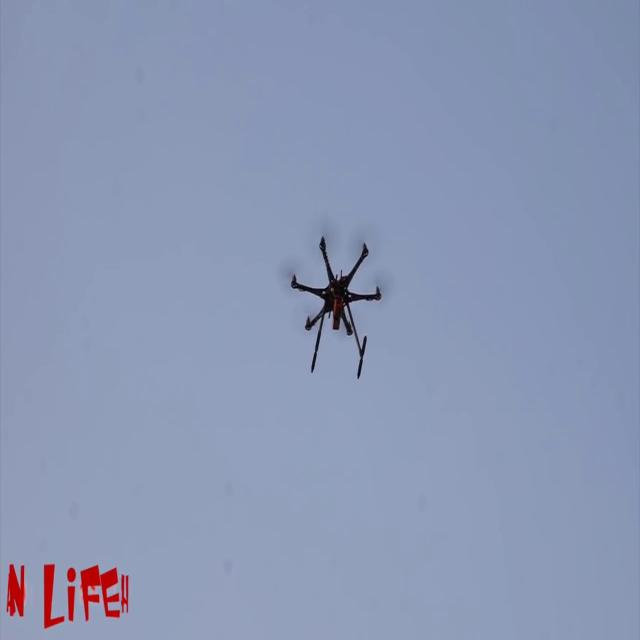drone: (273, 213, 405, 390)
